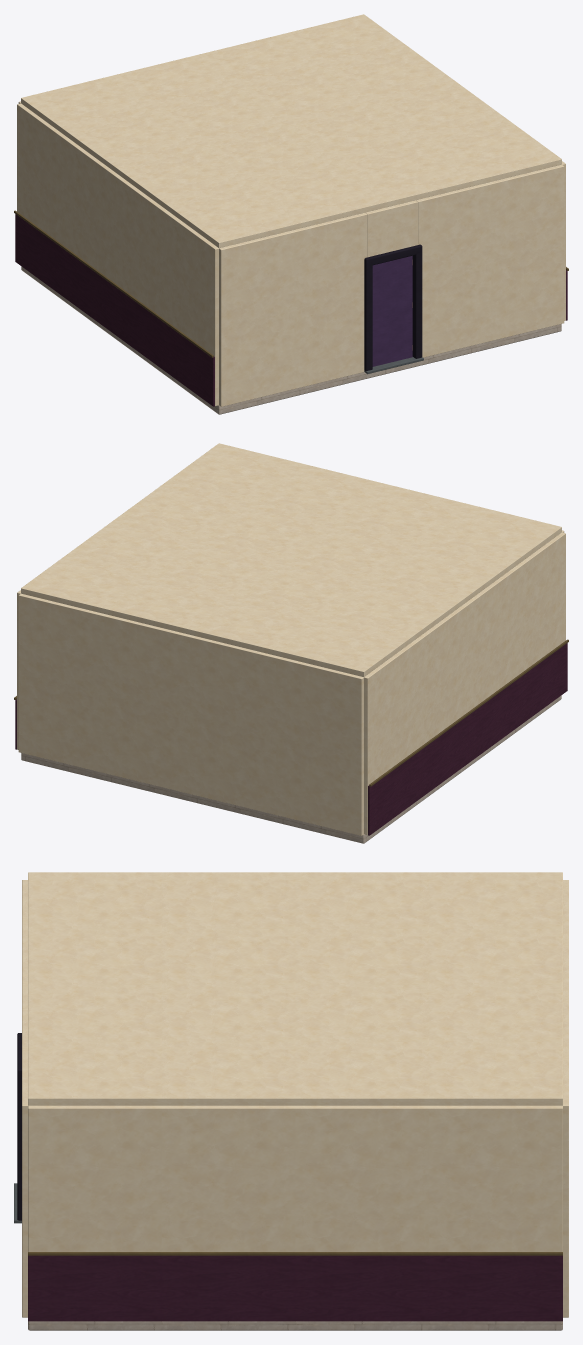
The model's file is explore3d__cold_store.glb.
3 renders of one model, top to bottom at view 1: azimuth 30°, elevation 25°; view 2: azimuth 150°, elevation 25°; view 3: azimuth 270°, elevation 25°, orthographic. The views are drawn at different scales.
Visible parts, largest first — view 1: ceiling.009, wall.022, wall.021, wall.024, lower_panel.023, front.017_leaf, cold_store_floor, door_lintel.004, front.017_jamb, front.017_jamb.001, panel_rail.023, front.017_header; view 2: ceiling.009, wall.023, wall.024, lower_panel.023, cold_store_floor, panel_rail.023; view 3: ceiling.009, wall.025, lower_panel.024, cold_store_floor, wall.023, panel_rail.024, wall.021, front.017_jamb, wall.022.
Boxes of the visible parts, x1,y1,x2,y2 form: ceiling.009: (21,14,561,248); wall.022: (219,212,367,406); wall.021: (416,164,564,357); wall.024: (17,103,218,406); lower_panel.023: (15,214,214,406); front.017_leaf: (372,255,412,366); cold_store_floor: (21,266,561,414); door_lintel.004: (365,200,417,257); front.017_jamb: (412,250,422,358); front.017_jamb.001: (364,263,372,370); panel_rail.023: (14,210,213,357); front.017_header: (364,244,422,265); ceiling.009: (21,443,561,677); wall.023: (18,593,363,835); wall.024: (364,532,565,835); lower_panel.023: (368,643,567,835); cold_store_floor: (21,695,561,843); panel_rail.023: (369,639,568,786); ceiling.009: (28,872,562,1105); wall.025: (28,1105,562,1251); lower_panel.024: (28,1255,562,1321); cold_store_floor: (28,1321,562,1330); wall.023: (563,880,568,1317); panel_rail.024: (28,1252,562,1255); wall.021: (22,1009,27,1317); front.017_jamb: (17,1074,21,1220); wall.022: (22,880,27,976).
Size of the model in its own units: 8.32 by 3.84 by 8.3.
12 materials, 11 textured.
